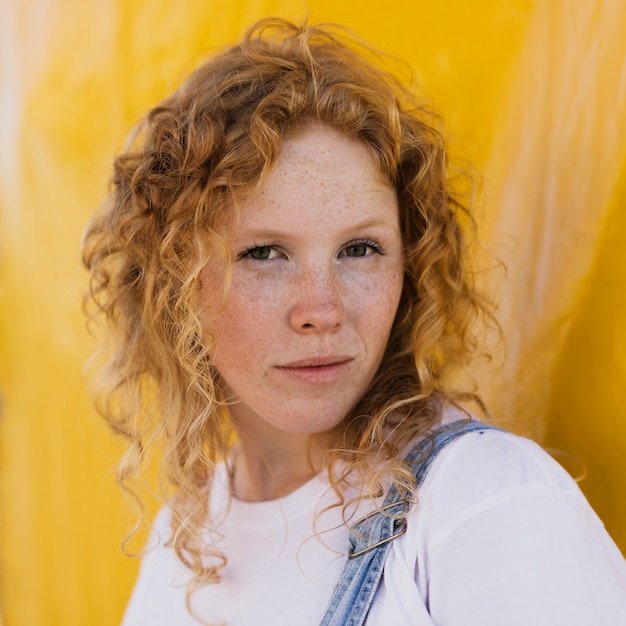teen: (113, 22, 456, 460)
